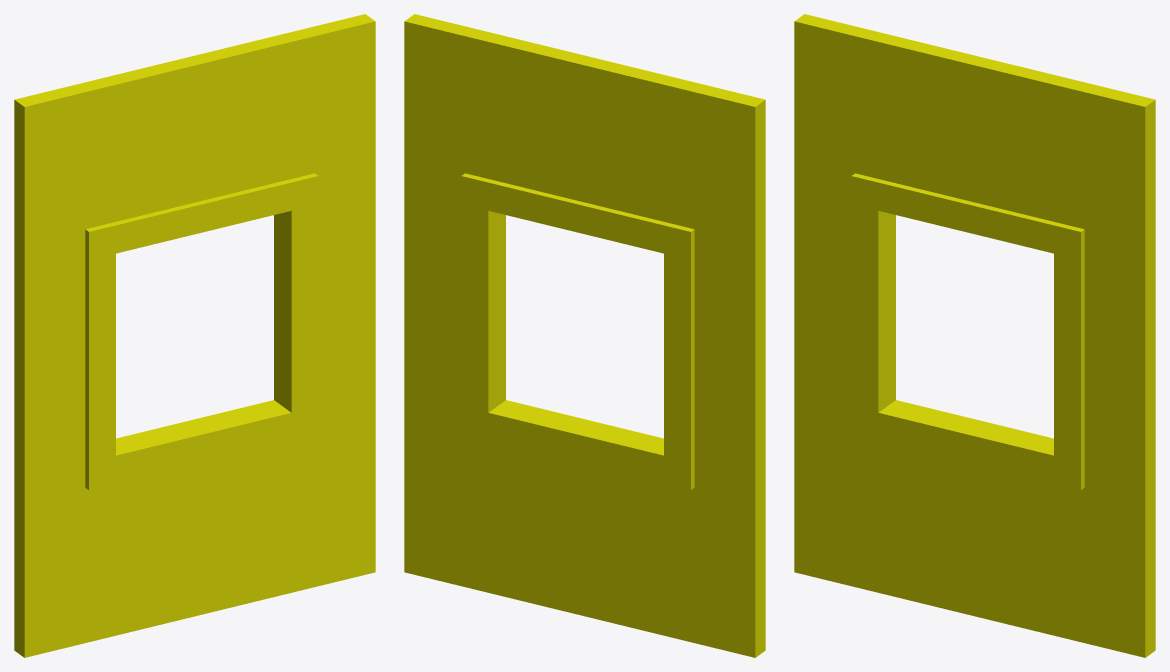
File: SM_Buildings_WallWindow_2x3_01.glb
3 views of the same model, side by side, from view 1: azimuth 30°, elevation 25°; view 2: azimuth 150°, elevation 25°; view 3: azimuth 330°, elevation 25° (orthographic).
Parts seen in each view (by area): view 1: SM_Buildings_WallWindow_2x3_01; view 2: SM_Buildings_WallWindow_2x3_01; view 3: SM_Buildings_WallWindow_2x3_01.
Part boxes in pixels (x1,y1,x2,y2): SM_Buildings_WallWindow_2x3_01: (14,14,375,657); SM_Buildings_WallWindow_2x3_01: (404,14,765,657); SM_Buildings_WallWindow_2x3_01: (794,14,1155,657).
Size of the model in its own units: 2 by 3 by 0.1729.
Materials: 1 (1 with a texture image).
